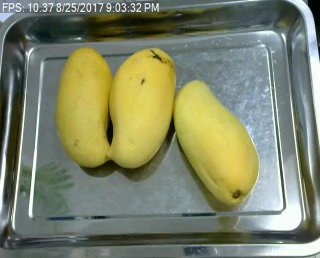Mango: (171, 79, 261, 210), (98, 47, 176, 171), (57, 45, 112, 170)
